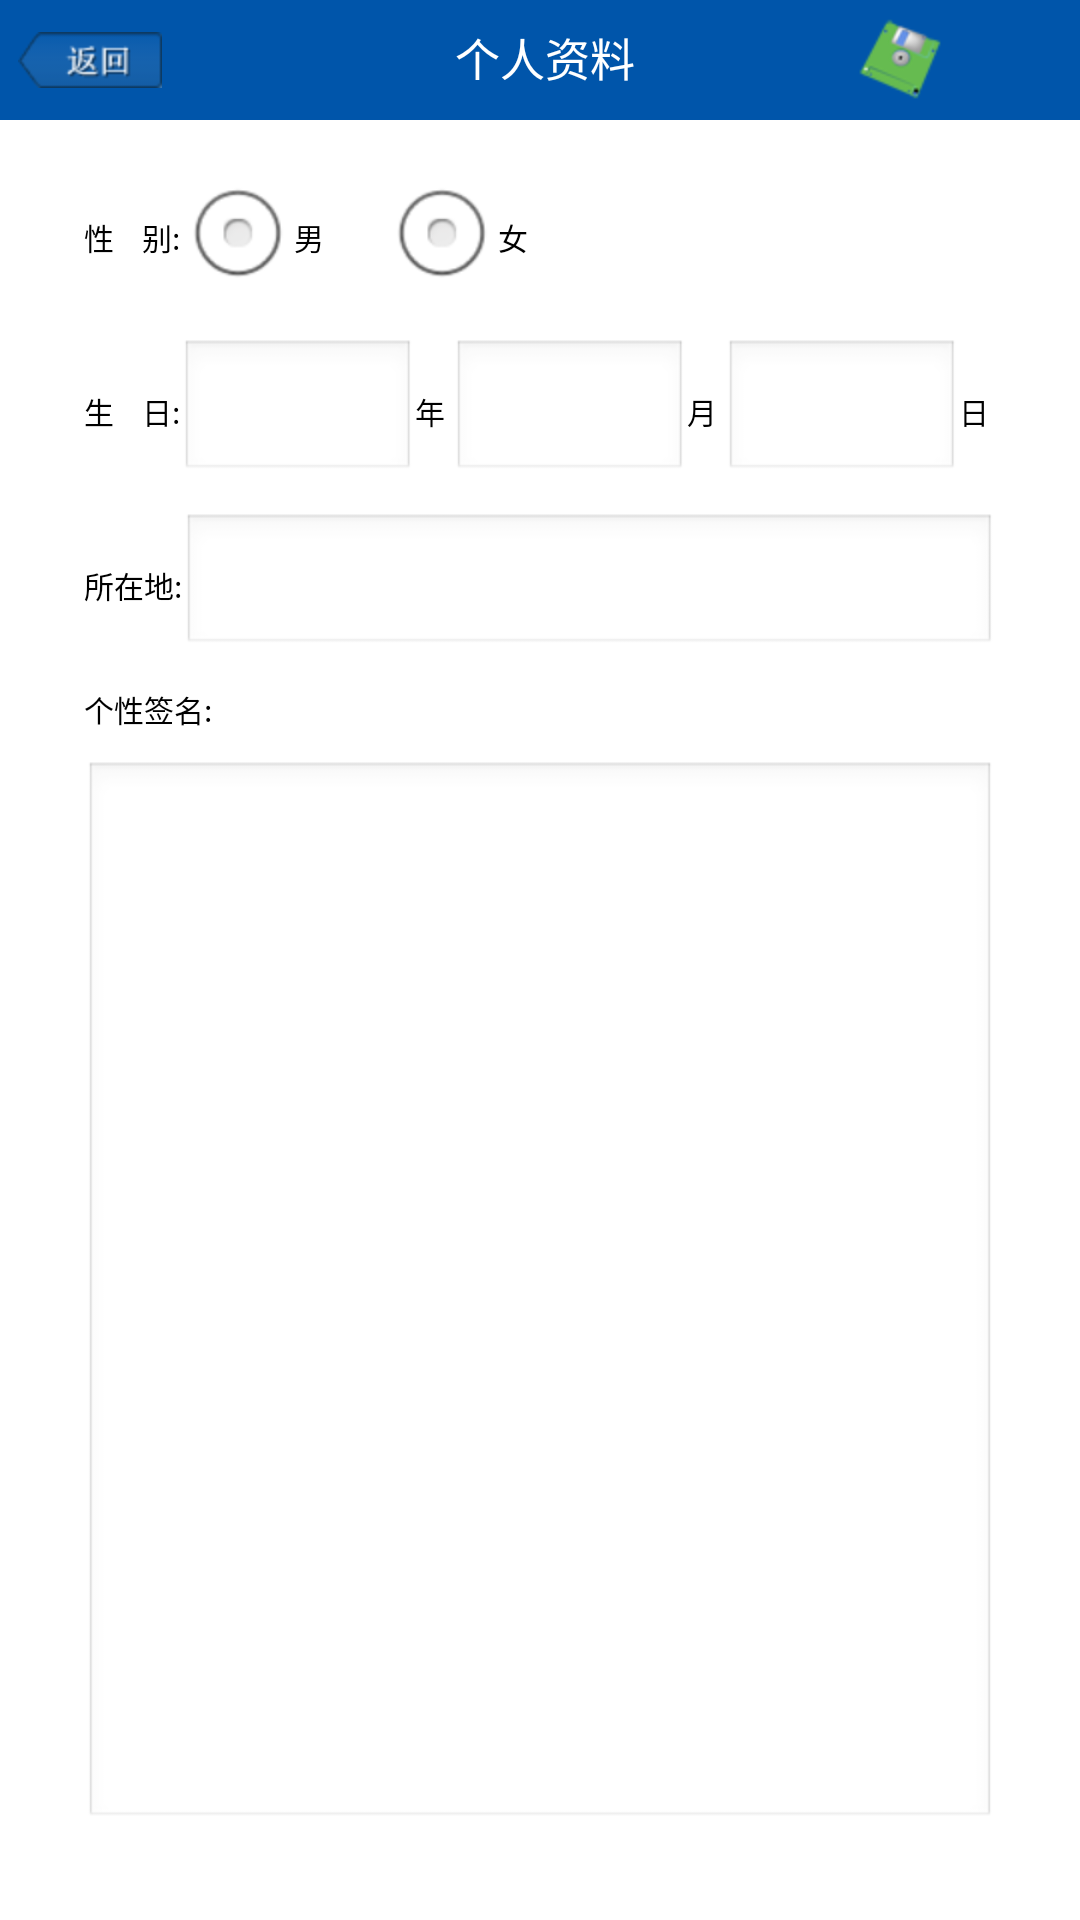

Icon click points for this 1080px x 1920px phone screenshot, format (x=x, y=y):
savebutton: (x=900, y=59)
